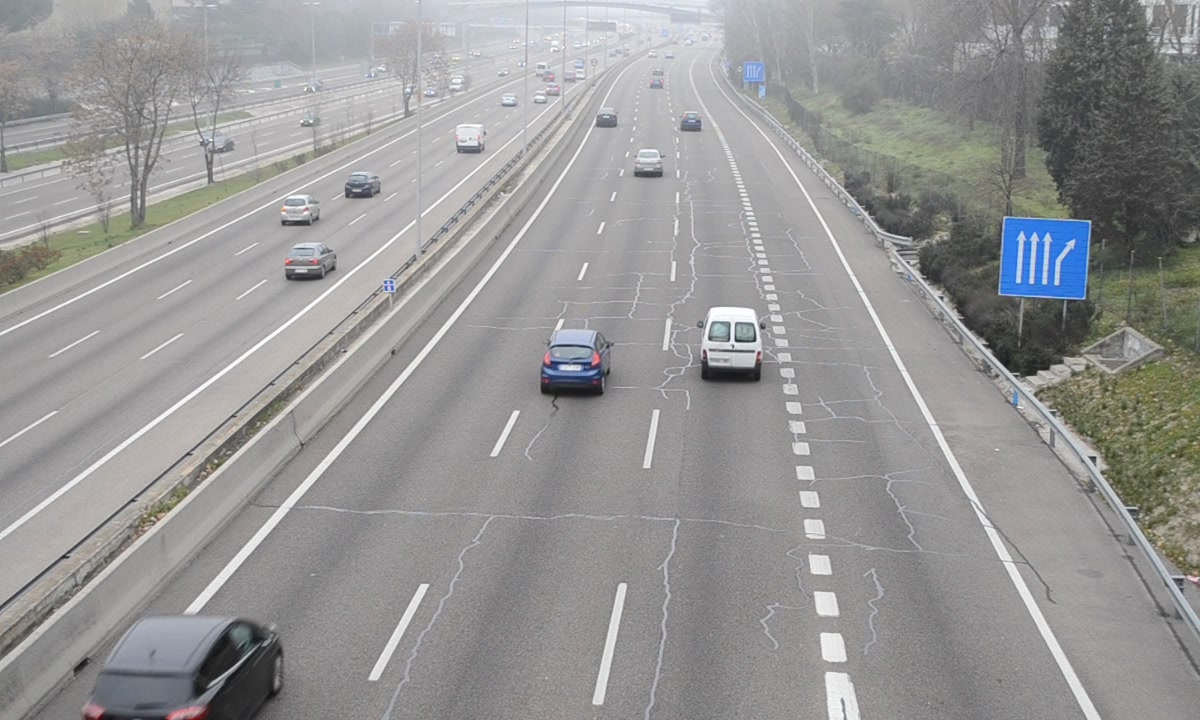car: (84, 615, 284, 720), (541, 330, 611, 393), (634, 149, 663, 176), (595, 106, 619, 129), (679, 111, 703, 133)
van: (699, 308, 761, 379)
